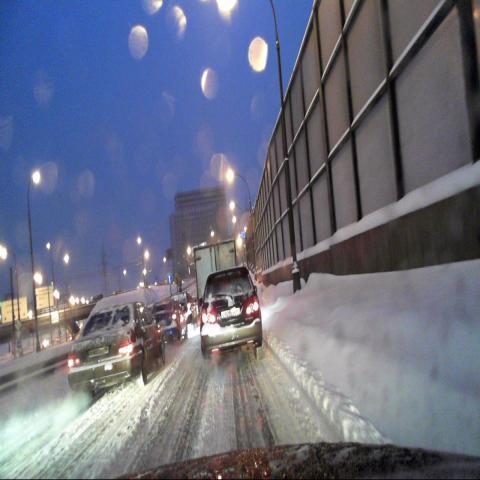4_1_1: (167, 272, 174, 285)
